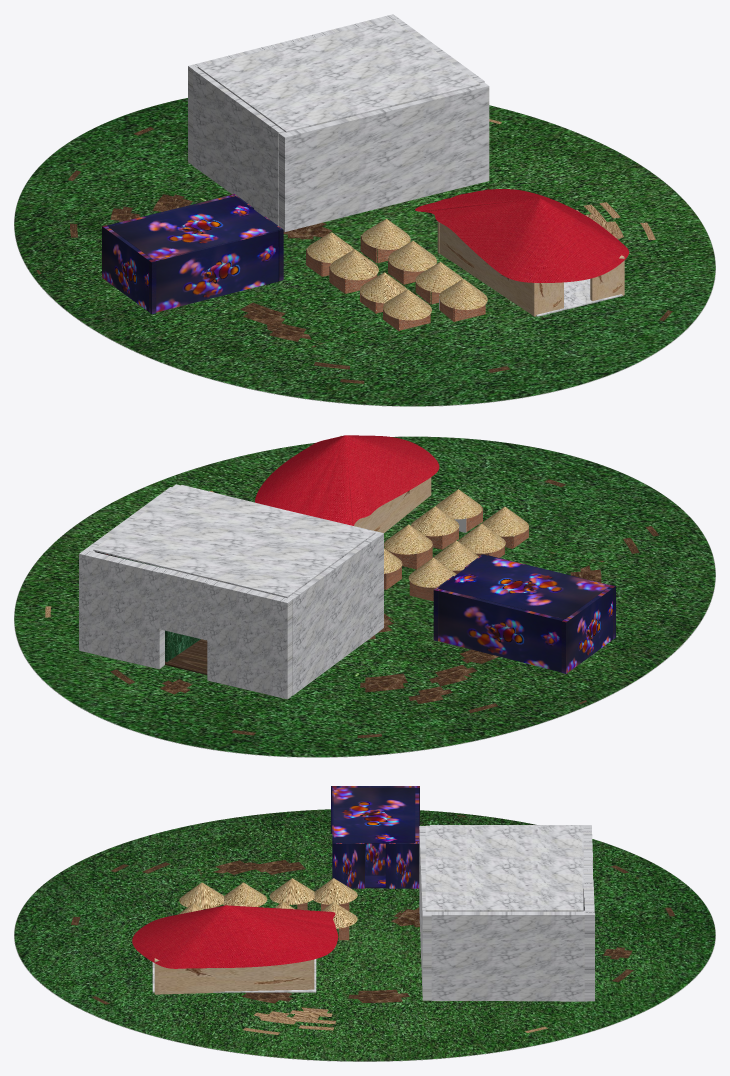
The picture shows the model from 3 angles, top to bottom: view 1: azimuth 30°, elevation 25°; view 2: azimuth 150°, elevation 25°; view 3: azimuth 270°, elevation 25°; orthographic projection. The views are drawn at different scales.
Size of the model in its own units: 1974 by 342 by 2313.
Materials: 14 (13 with a texture image).
